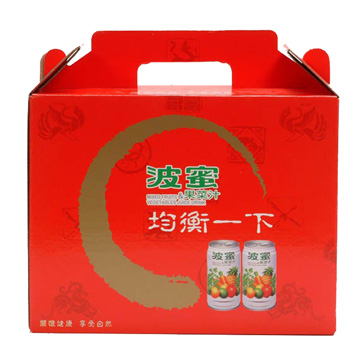vegetables juice: (242, 247, 278, 311), (203, 245, 239, 309)
